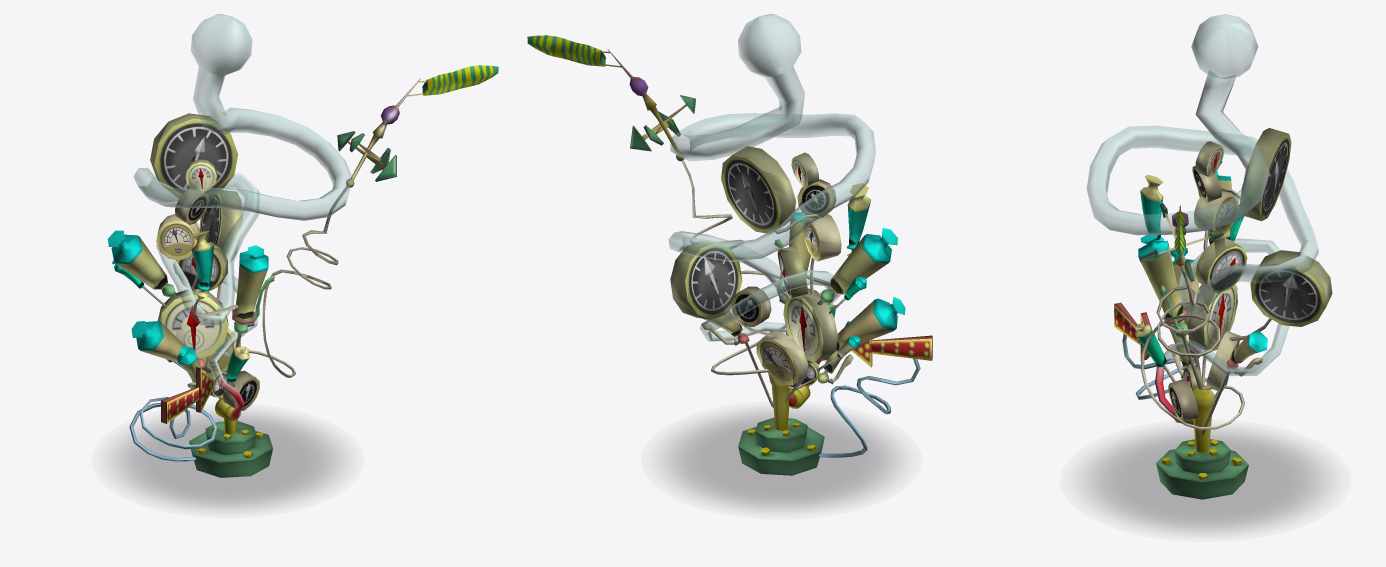
The model's file is silly_meter.glb.
3 views of the same model, side by side, from view 1: azimuth 30°, elevation 25°; view 2: azimuth 150°, elevation 25°; view 3: azimuth 270°, elevation 25° (orthographic). The views are drawn at different scales.
Parts seen in each view (by area): view 1: tube, stage3, dropShadow, stage4, stage1, stage2, whistle1, whistle2, whistle3, spring, arrow, whistle1_arm; view 2: tube, stage3, dropShadow, stage4, stage1, stage2, whistle2, whistle3, arrow, spring, whistle1_arm, whistle1; view 3: tube, dropShadow, stage3, stage4, stage1, whistle1, stage2, whistle1_arm, arrow, whistle3, spring.
Part boxes in pixels (box(x1,y1,x2,y2)): tube: box(133, 14, 352, 416); stage3: box(150, 65, 498, 397); dropShadow: box(115, 413, 340, 507); stage4: box(112, 159, 242, 370); stage1: box(189, 321, 272, 477); stage2: box(157, 289, 228, 398); whistle1: box(232, 245, 274, 347); whistle2: box(107, 230, 176, 297); whistle3: box(131, 321, 211, 373); spring: box(129, 397, 217, 461); arrow: box(161, 367, 216, 423); whistle1_arm: box(191, 231, 237, 316); tube: box(668, 14, 875, 387); stage3: box(527, 35, 853, 390); dropShadow: box(665, 411, 897, 508); stage4: box(670, 152, 866, 371); stage1: box(702, 313, 824, 475); stage2: box(783, 288, 837, 402); whistle2: box(817, 228, 897, 305); whistle3: box(807, 297, 905, 364); arrow: box(851, 335, 932, 367); spring: box(818, 358, 920, 457); whistle1_arm: box(805, 183, 871, 285); whistle1: box(774, 211, 810, 335); tube: box(1087, 14, 1318, 414); dropShadow: box(1085, 430, 1325, 531); stage3: box(1134, 128, 1291, 429); stage4: box(1192, 141, 1332, 363); stage1: box(1156, 331, 1267, 499); whistle1: box(1138, 235, 1202, 389); stage2: box(1188, 284, 1237, 385); whistle1_arm: box(1140, 174, 1163, 241); arrow: box(1114, 302, 1152, 360); whistle3: box(1170, 248, 1202, 385); spring: box(1122, 334, 1228, 403).
Bounding box in the file's own units: 23.68 × 25.05 × 16.49.
Materials: 5 (5 with a texture image).
